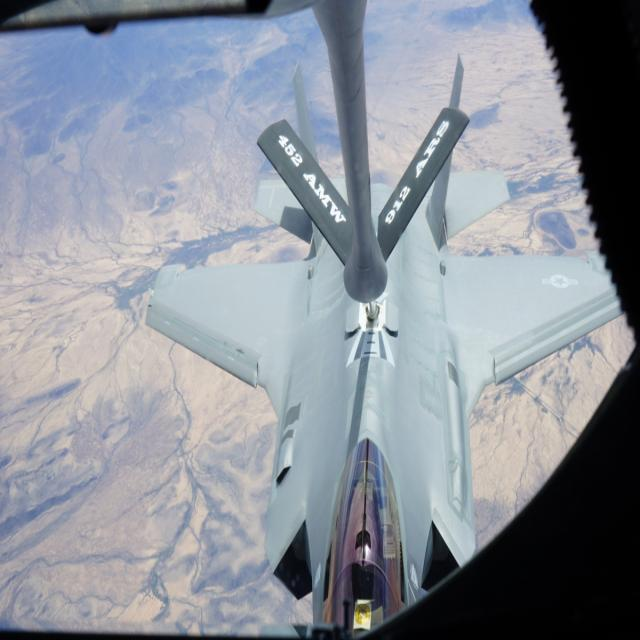MIL_Plane: (145, 52, 624, 638)
